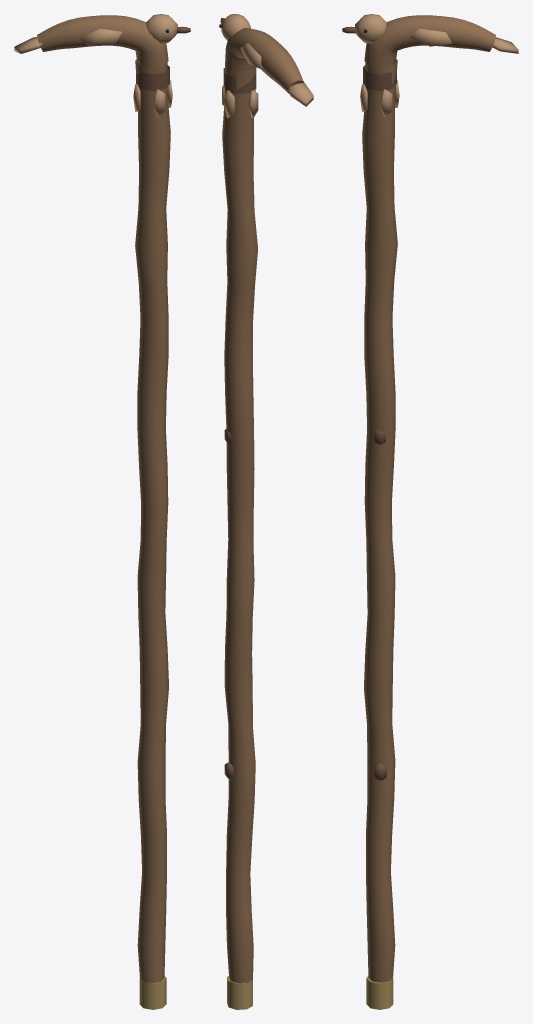
File: father_cane.glb
3 renders of one model, left to right at view 1: azimuth 90°, elevation 25°; view 2: azimuth 210°, elevation 25°; view 3: azimuth 270°, elevation 25°, orthographic.
Parts seen in each view (by area): view 1: father_cane; view 2: father_cane; view 3: father_cane.
Boxes of the visible parts, x1,y1,x2,y2 form: father_cane: (14,14,190,1009); father_cane: (219,14,313,1009); father_cane: (342,14,518,1009).
Size of the model in its own units: 0.0299 by 0.825 by 0.1335.
